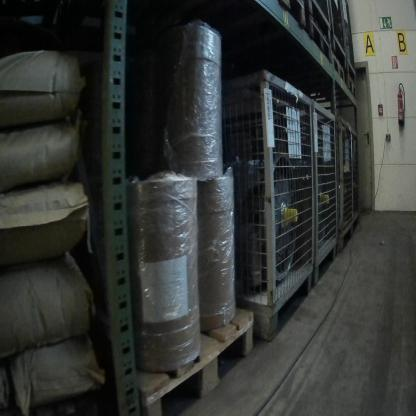pallets: (134, 308, 257, 412)
